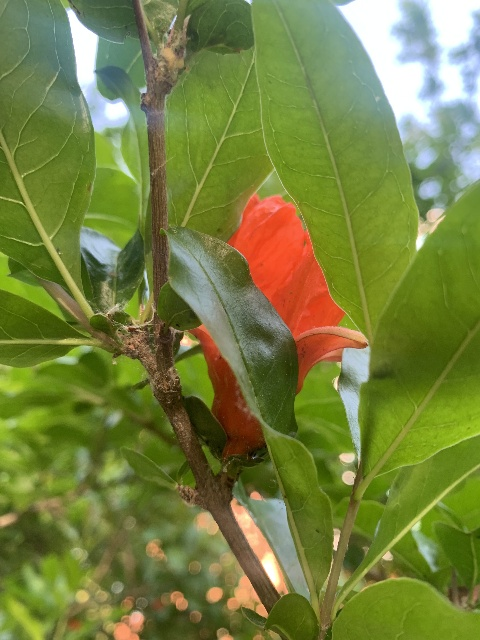flower: (183, 194, 366, 460)
